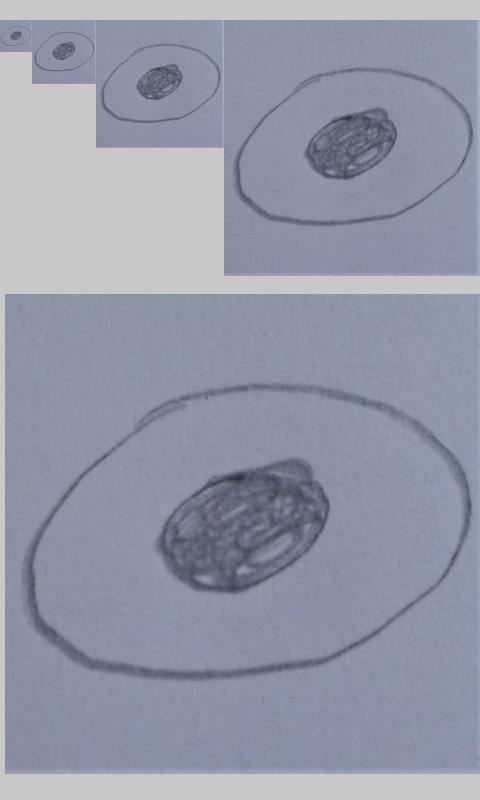radio_button: (20, 380, 475, 681), (231, 62, 475, 229), (100, 42, 222, 124), (34, 31, 95, 72), (1, 24, 32, 47)
